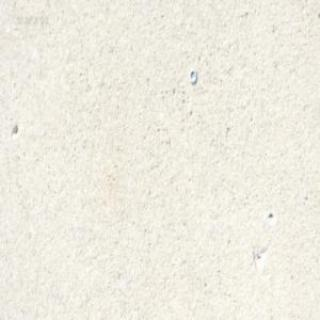Washertrack_idkeyframe: (188, 67, 196, 83)
